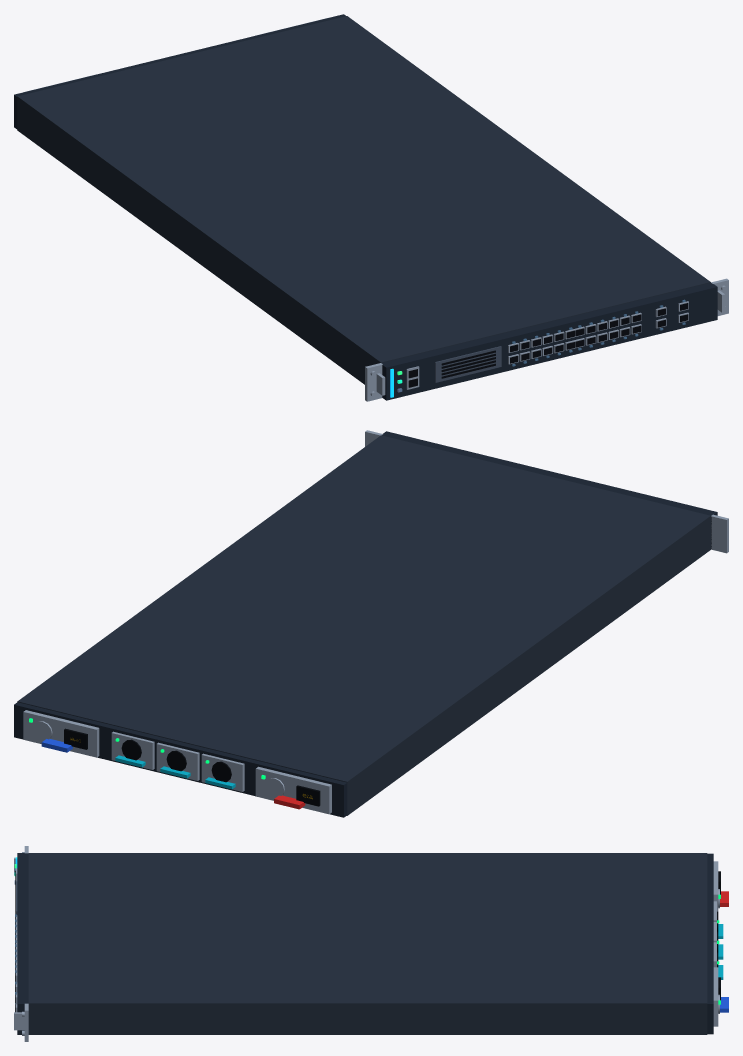
File: generic_wireless_ac_1u.glb
3 views of the same model, one above another, from view 1: azimuth 30°, elevation 25°; view 2: azimuth 150°, elevation 25°; view 3: azimuth 270°, elevation 25° (orthographic). The views are drawn at different scales.
Visible parts, largest first — view 1: BATCH_MAT_CHASSIS_BODY, BATCH_MAT_FACEPLATE, BATCH_MAT_CAVITY_DARK, BATCH_MAT_PORT_SHIELD, BATCH_MAT_RACK_EAR, BATCH_MAT_AC_BRUSHED_TRIM; view 2: BATCH_MAT_CHASSIS_BODY, BATCH_MAT_RACK_EAR, BATCH_MAT_FACEPLATE, BATCH_MAT_CAVITY_DARK; view 3: BATCH_MAT_CHASSIS_BODY, BATCH_MAT_FACEPLATE, BATCH_MAT_RACK_EAR, BATCH_MAT_PORT_SHIELD.
Part boxes in pixels (x1=…): BATCH_MAT_CHASSIS_BODY: x1=17, y1=16, x2=710, y2=384; BATCH_MAT_FACEPLATE: x1=14, y1=14, x2=717, y2=400; BATCH_MAT_CAVITY_DARK: x1=408, y1=303, x2=688, y2=387; BATCH_MAT_PORT_SHIELD: x1=370, y1=285, x2=726, y2=397; BATCH_MAT_RACK_EAR: x1=25, y1=17, x2=728, y2=401; BATCH_MAT_AC_BRUSHED_TRIM: x1=435, y1=346, x2=501, y2=382; BATCH_MAT_CHASSIS_BODY: x1=17, y1=435, x2=710, y2=815; BATCH_MAT_RACK_EAR: x1=23, y1=430, x2=728, y2=814; BATCH_MAT_FACEPLATE: x1=14, y1=431, x2=717, y2=817; BATCH_MAT_CAVITY_DARK: x1=64, y1=728, x2=320, y2=806; BATCH_MAT_CHASSIS_BODY: x1=28, y1=853, x2=707, y2=1034; BATCH_MAT_FACEPLATE: x1=17, y1=853, x2=713, y2=1034; BATCH_MAT_RACK_EAR: x1=14, y1=846, x2=718, y2=1041; BATCH_MAT_PORT_SHIELD: x1=15, y1=852, x2=719, y2=1035.
Size of the model in its own units: 0.4826 by 0.0435 by 0.885.
